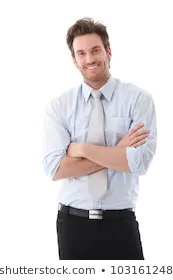F_belt: (73, 112, 108, 122)
F_shirt: (39, 73, 158, 210)
F_tie: (85, 57, 101, 113)
